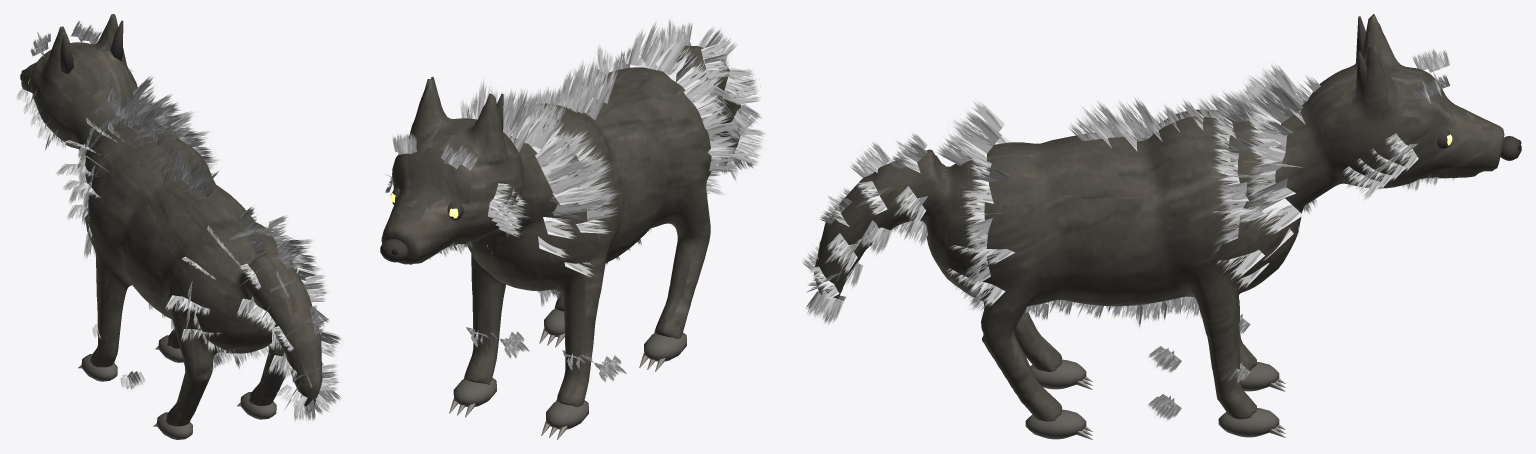
Rendered from wolf.glb.
The picture shows the model from 3 angles, left to right: view 1: azimuth 30°, elevation 25°; view 2: azimuth 150°, elevation 25°; view 3: azimuth 270°, elevation 25°; orthographic projection. The views are drawn at different scales.
Parts seen in each view (by area): view 1: Wolf; view 2: Wolf; view 3: Wolf.
Boxes of the visible parts, <box> form: Wolf: <box>16,14,341,439</box>; Wolf: <box>380,19,765,439</box>; Wolf: <box>802,14,1521,439</box>.
Bounding box in the file's own units: 0.6851 × 1.22 × 2.09.
7 materials, 2 textured.
